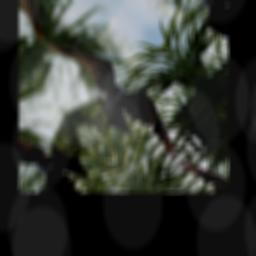Crow: (29, 17, 195, 180)
